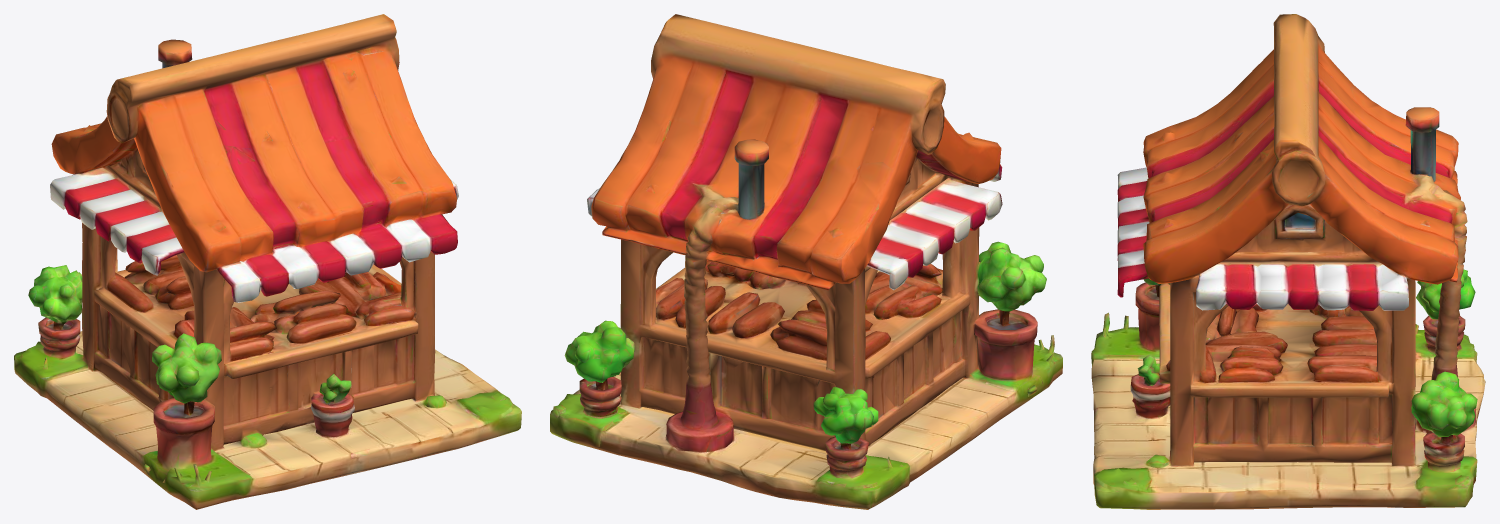
Rendered from worstenbroodjeskraam.glb.
3 views of the same model, side by side, from view 1: azimuth 30°, elevation 25°; view 2: azimuth 150°, elevation 25°; view 3: azimuth 270°, elevation 25° (orthographic). The views are drawn at different scales.
Visible parts, largest first — view 1: Mesh_0; view 2: Mesh_0; view 3: Mesh_0.
Part boxes in pixels (box(x1,y1,x2,y2)): Mesh_0: box(14, 14, 521, 509); Mesh_0: box(550, 14, 1062, 509); Mesh_0: box(1091, 14, 1485, 509).
Bounding box in the file's own units: 1.85 × 1.82 × 1.85.
1 material, 1 textured.
